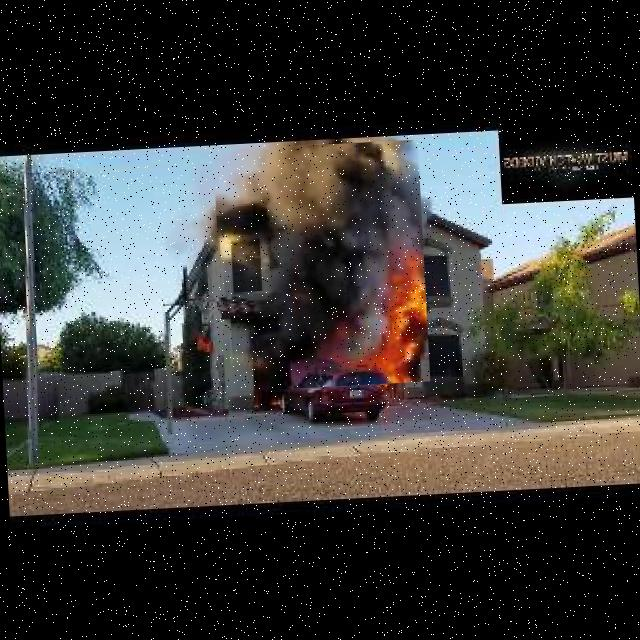fire: (213, 140, 430, 392)
